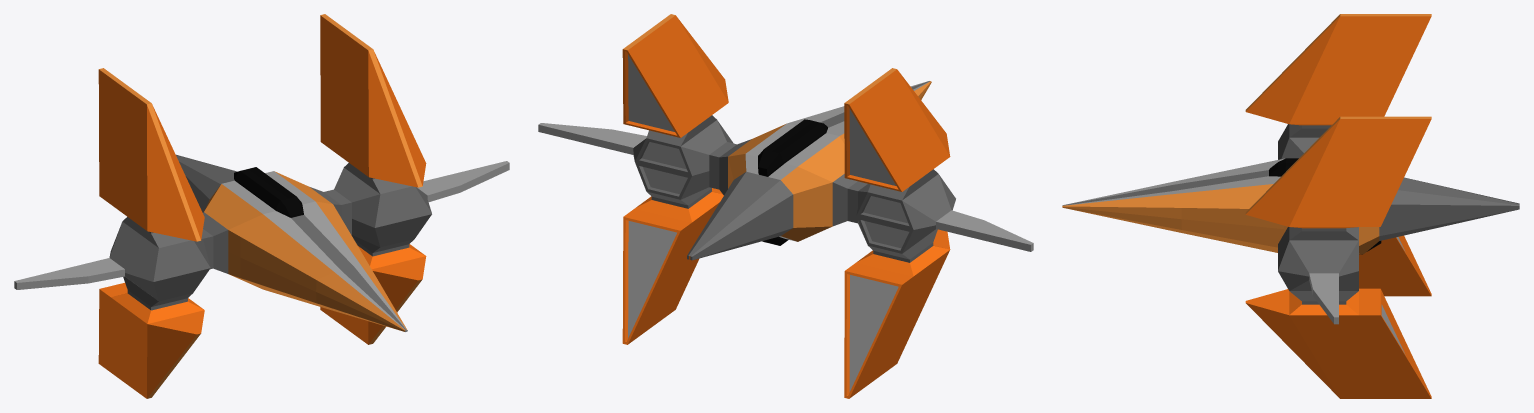
Rendered from SpaceshipOrangeMoE.fbx.
3 views of the same model, side by side, from view 1: azimuth 30°, elevation 25°; view 2: azimuth 150°, elevation 25°; view 3: azimuth 270°, elevation 25° (orthographic). The views are drawn at different scales.
Visible parts, largest first — view 1: Cube; view 2: Cube; view 3: Cube.
Part boxes in pixels (x1=…): Cube: x1=14, y1=14, x2=509, y2=398; Cube: x1=538, y1=14, x2=1033, y2=398; Cube: x1=1062, y1=14, x2=1519, y2=398.
Size of the model in its own units: 1368 by 782 by 1157.
1 material, 1 textured.
